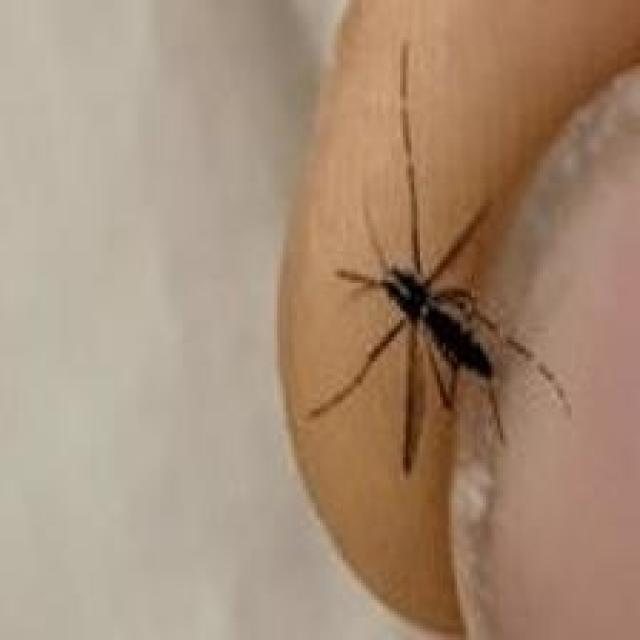Aedes albopictus: (304, 40, 573, 477)
